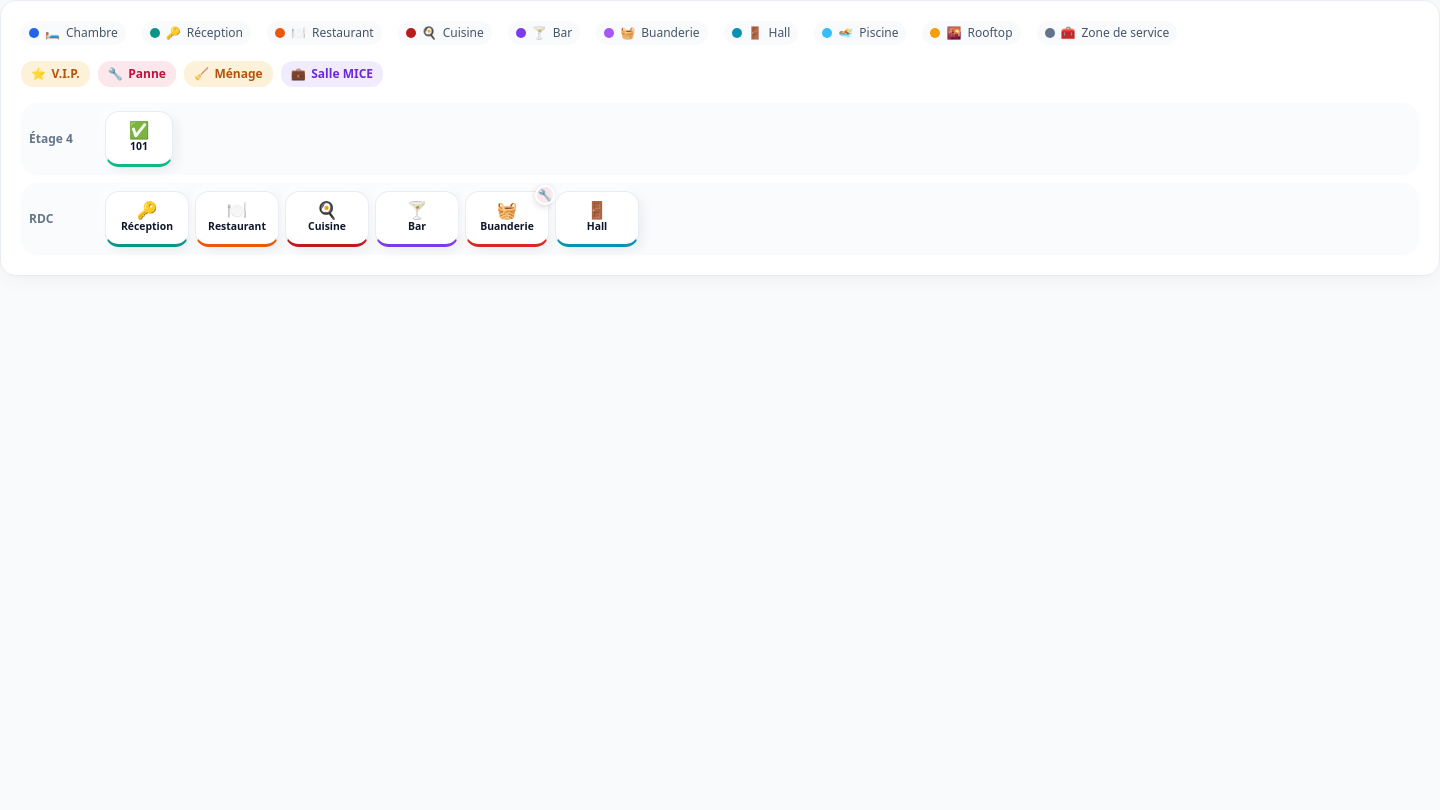
Test: SchematicHotelView / direct-action alert indicator › by default (no override), the laundry alert badge opens the real IncidentQuickModal, not a navigation
Click the button with test id "schematic-amenity-laundry-alert": [545, 195] box [535,185,555,205]
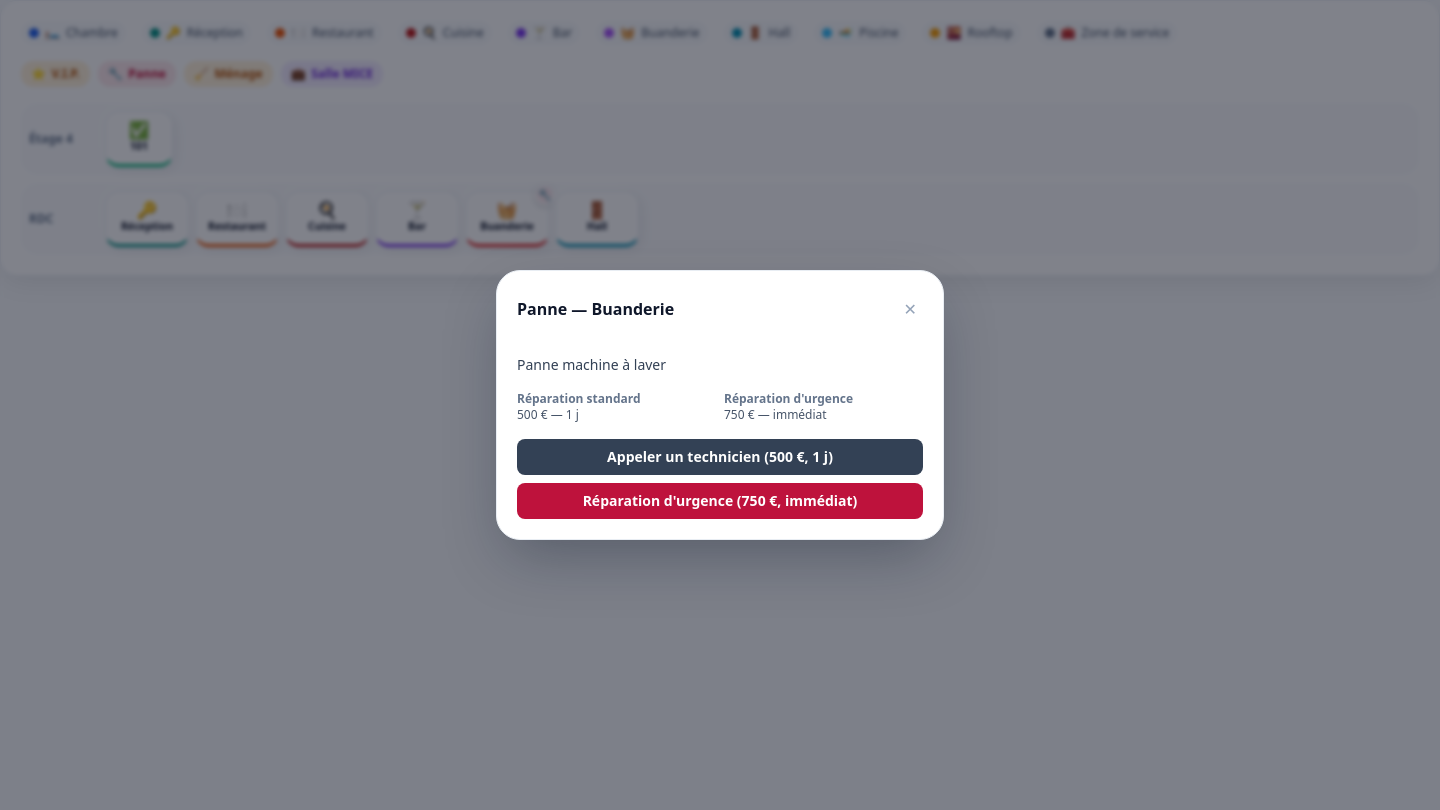
Check: the text "Panne machine à laver" is shown, box [517,355,666,374]
